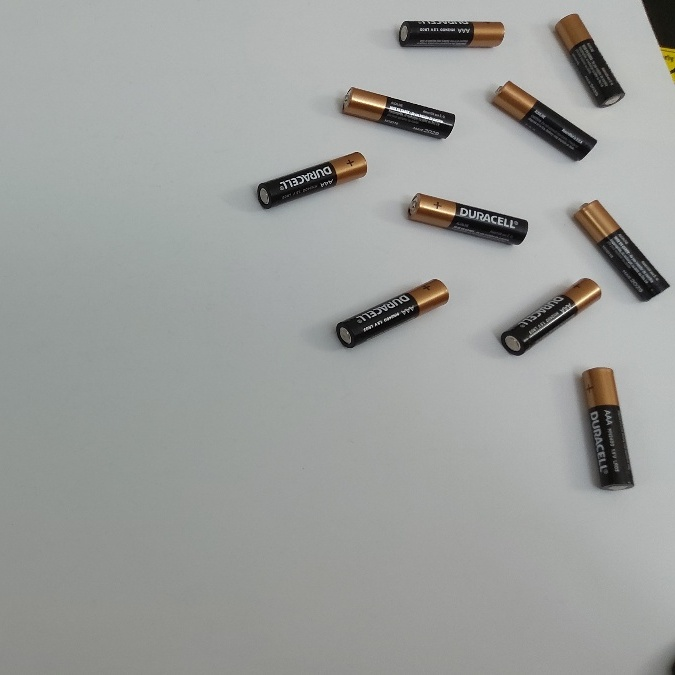battery: (577, 191, 667, 305), (329, 275, 453, 348), (491, 77, 593, 162), (498, 273, 599, 357), (336, 81, 457, 144), (248, 148, 369, 211), (406, 190, 529, 250), (580, 360, 633, 497), (555, 9, 624, 108), (392, 12, 510, 52)
